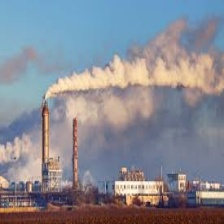smoke: (33, 33, 224, 120)
